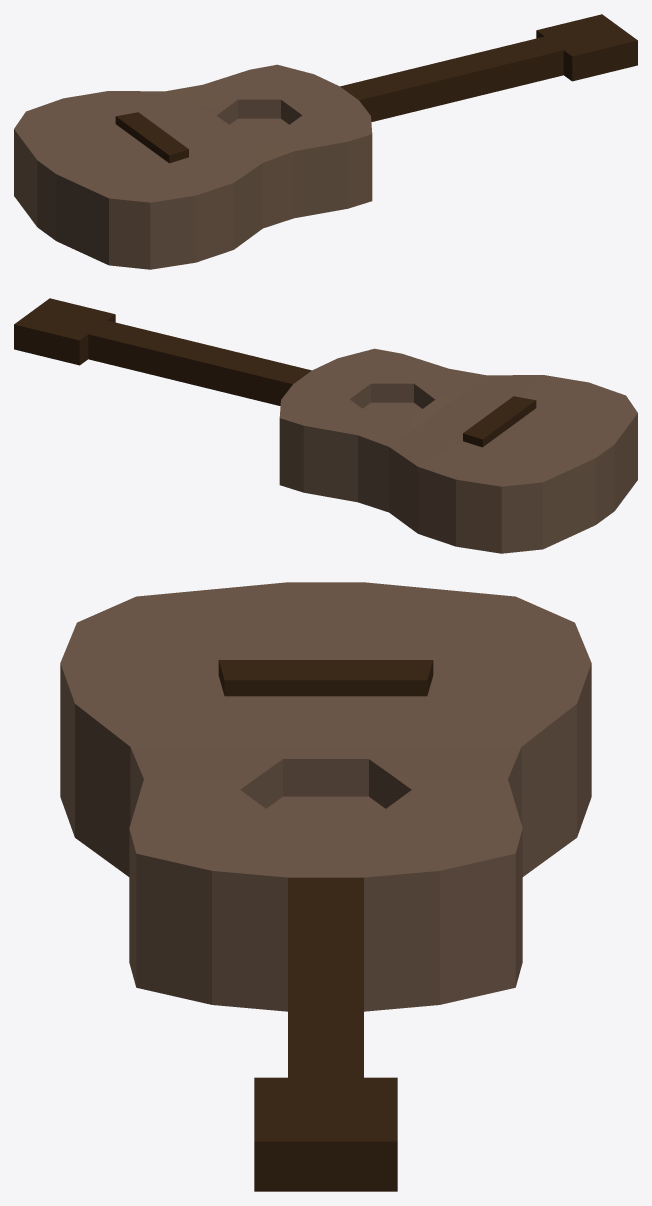
The model's file is guitarra.glb.
The picture shows the model from 3 angles, top to bottom: view 1: azimuth 30°, elevation 25°; view 2: azimuth 150°, elevation 25°; view 3: azimuth 270°, elevation 25°; orthographic projection. The views are drawn at different scales.
Visible parts, largest first — view 1: Cube; view 2: Cube; view 3: Cube.
Boxes of the visible parts, bbox=[...] form: Cube: bbox=[14, 14, 637, 269]; Cube: bbox=[14, 298, 637, 553]; Cube: bbox=[60, 582, 591, 1191].
Size of the model in its own units: 9.47 by 1.18 by 3.8.
1 material, 1 textured.
